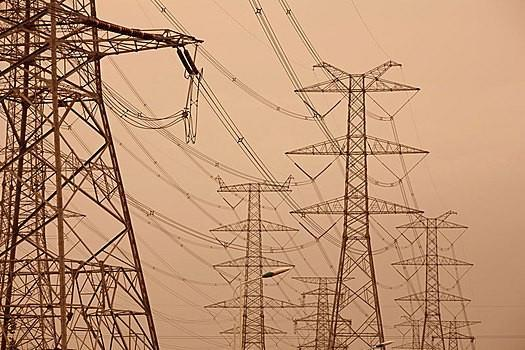power_tower: (0, 0, 204, 350), (284, 45, 418, 350), (205, 166, 294, 348), (400, 204, 469, 350)
